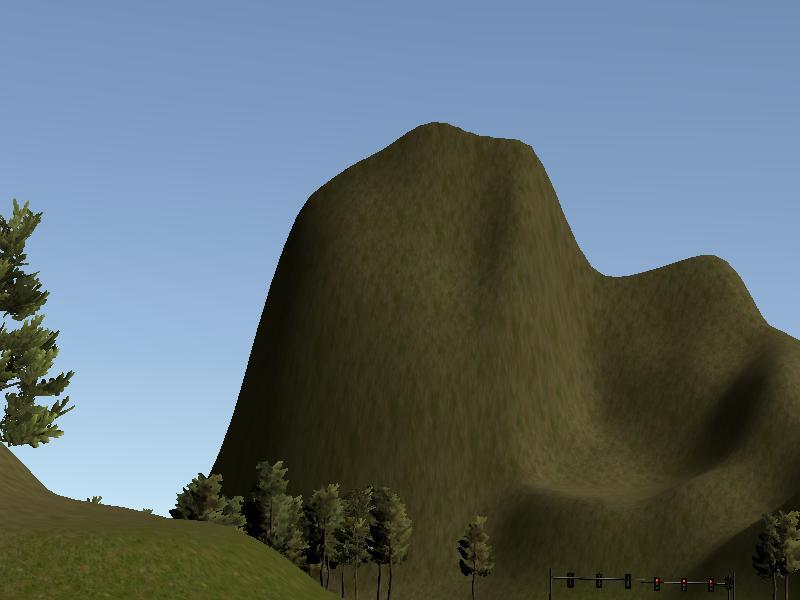Red: (706, 576, 716, 594), (679, 577, 688, 594), (653, 576, 661, 592)
